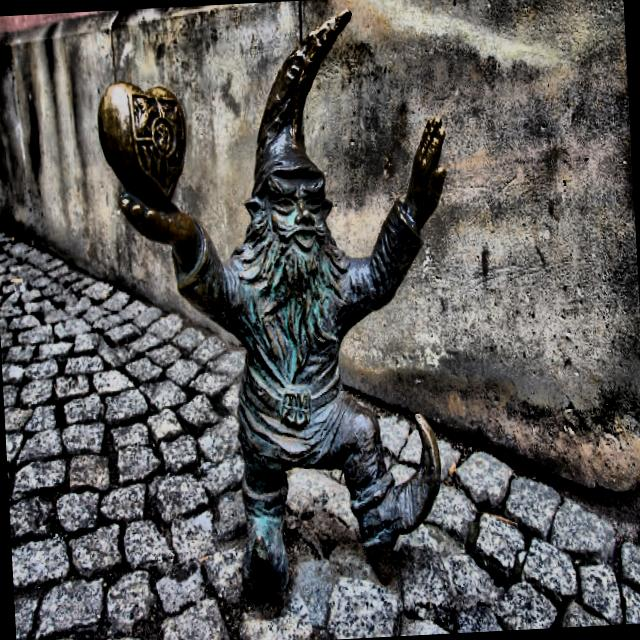WrocLovek: (90, 7, 472, 600)
